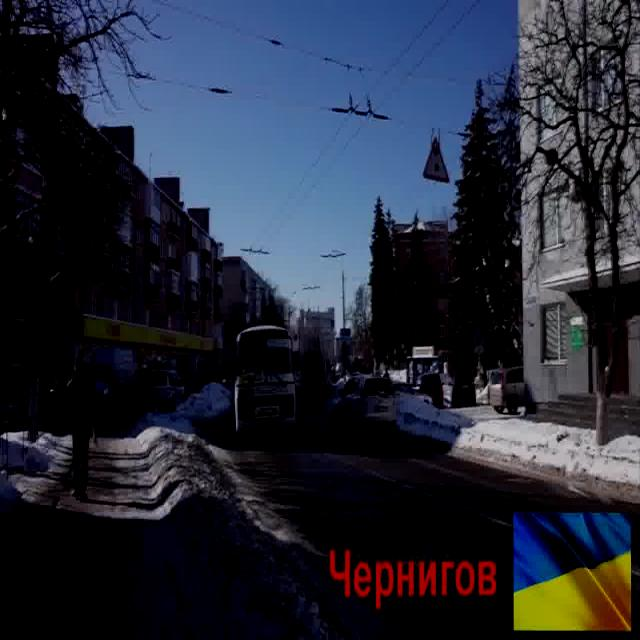bus: (233, 326, 301, 453)
